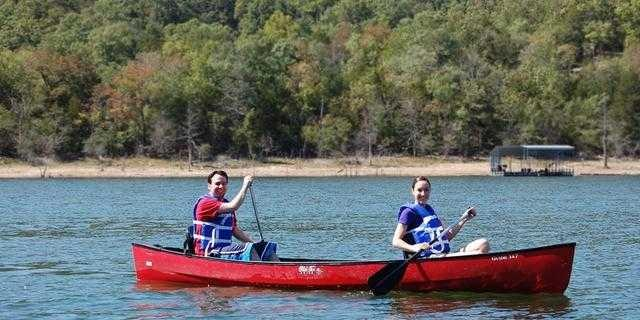kayak: (131, 239, 576, 295), (490, 145, 577, 178)
